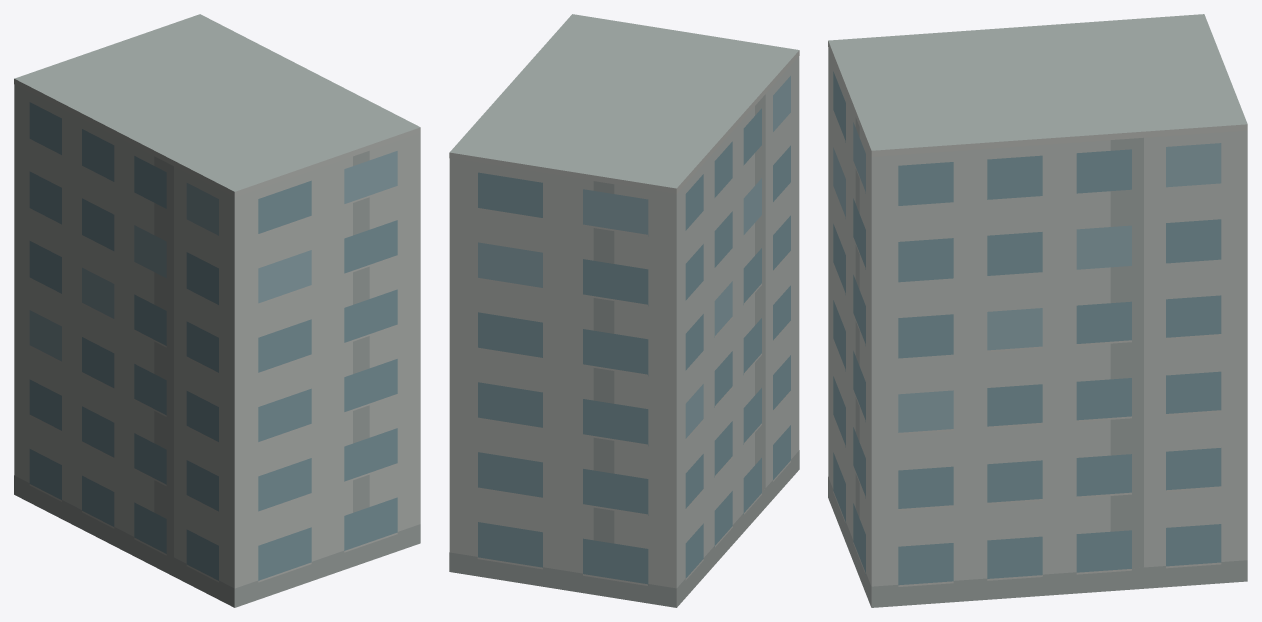
Rendered from residential-b0377465-c4bd-40e9-b80e-56c382b0145e.glb.
3 renders of one model, left to right at view 1: azimuth 30°, elevation 25°; view 2: azimuth 150°, elevation 25°; view 3: azimuth 270°, elevation 25°, orthographic. The views are drawn at different scales.
Parts seen in each view (by area): view 1: residential-b0377465-c4bd-40e9-b80e-56c382b0145e.tmp; view 2: residential-b0377465-c4bd-40e9-b80e-56c382b0145e.tmp; view 3: residential-b0377465-c4bd-40e9-b80e-56c382b0145e.tmp.
Part boxes in pixels (bbox=[...]): residential-b0377465-c4bd-40e9-b80e-56c382b0145e.tmp: bbox=[14, 14, 420, 607]; residential-b0377465-c4bd-40e9-b80e-56c382b0145e.tmp: bbox=[449, 14, 799, 607]; residential-b0377465-c4bd-40e9-b80e-56c382b0145e.tmp: bbox=[828, 14, 1247, 607].
Size of the model in its own units: 11.56 by 18 by 14.98.
